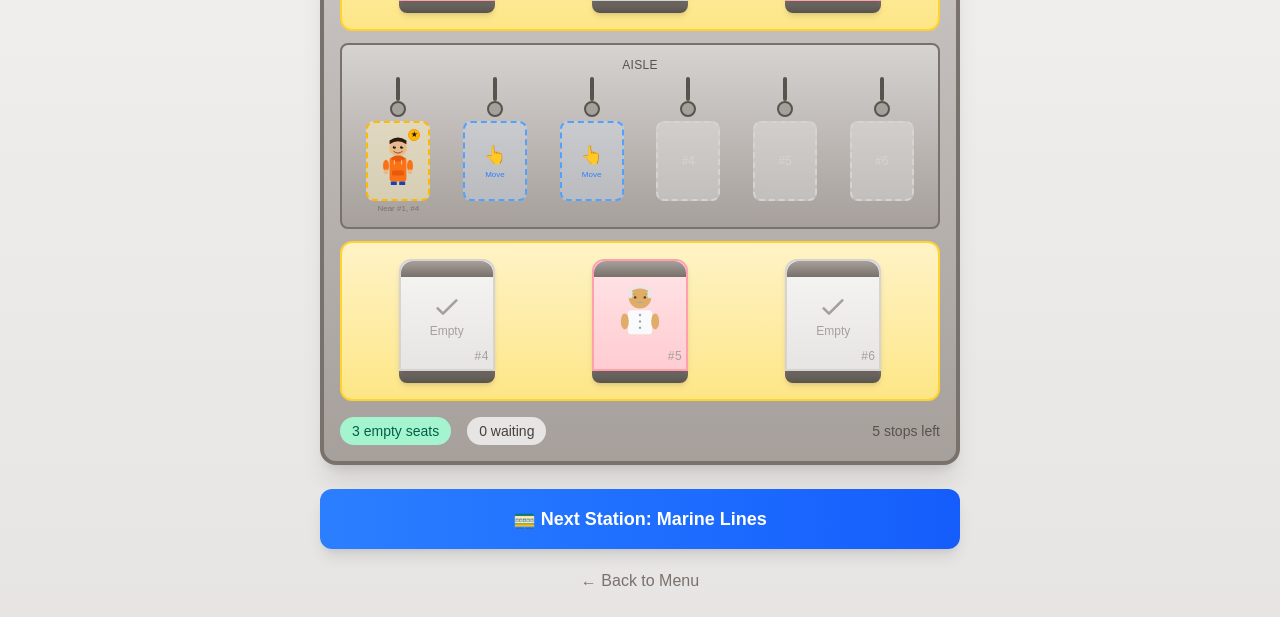
GamePage › next station flow › updates remaining stations count after advancing
(page scrolled)
Check: the text "5 stops left" is shown, box [872,421,940,441]
# Click next station
Click the button with test id "next-station-button" at coordinates (640, 519), box [320,489,960,549]
Wait 2700 ms
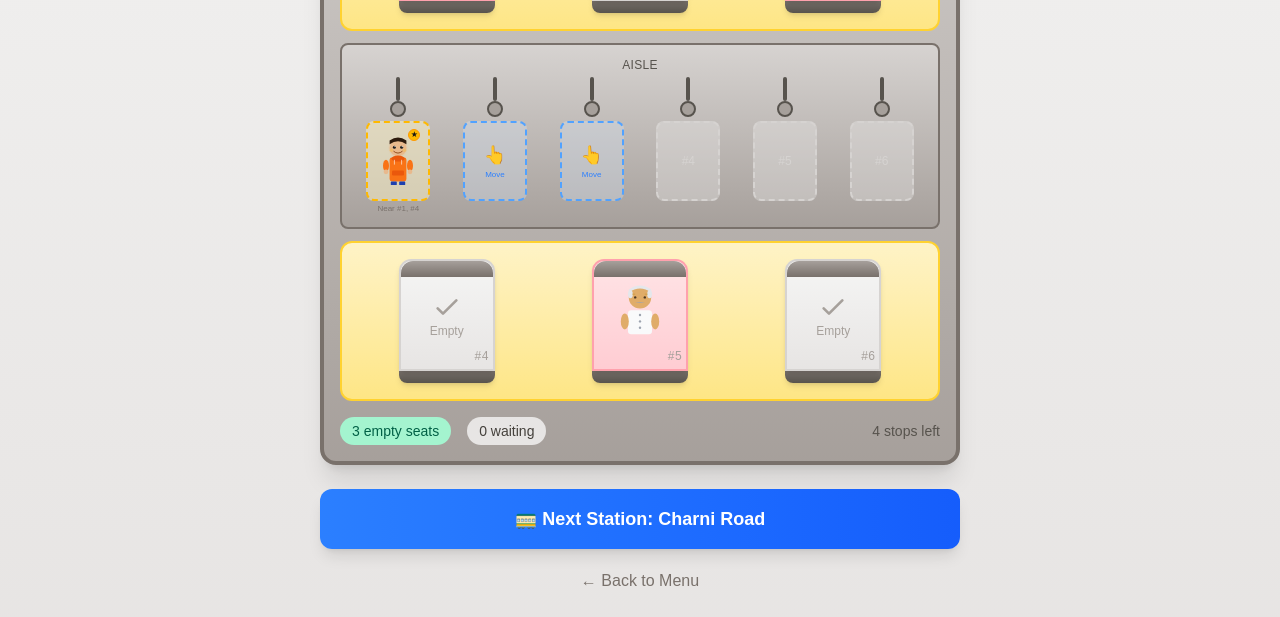
Check: the text "4 stops left" is shown, box [872,421,940,441]
